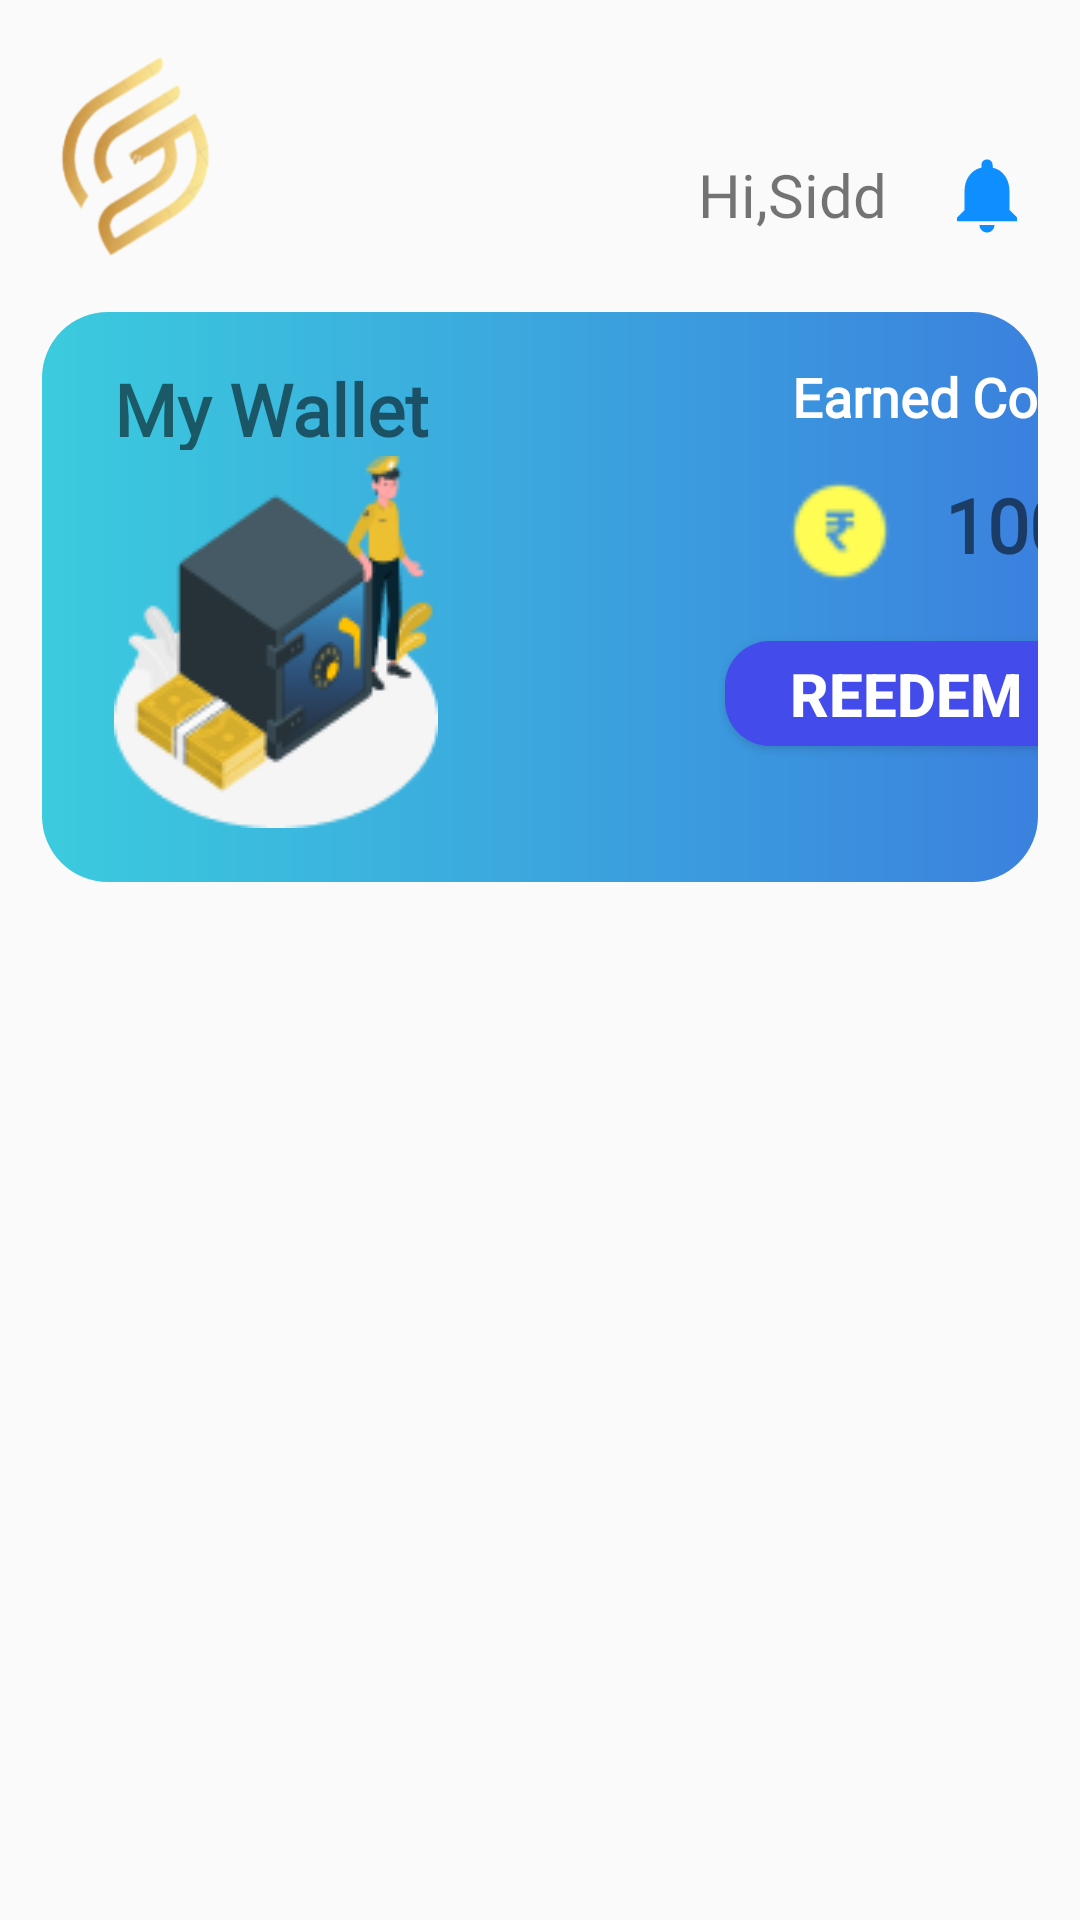

Screen size 1080*1920. Icon name, then its center in pixels as [x,y]:
notifications: [987,196]
